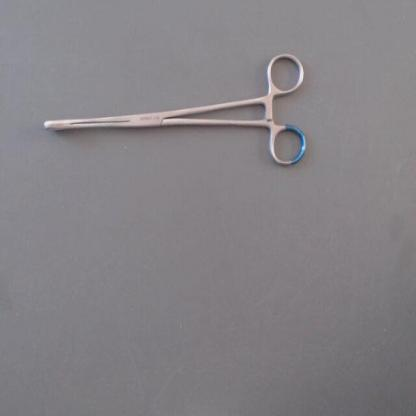Sponge Forceps: (32, 46, 314, 174)
